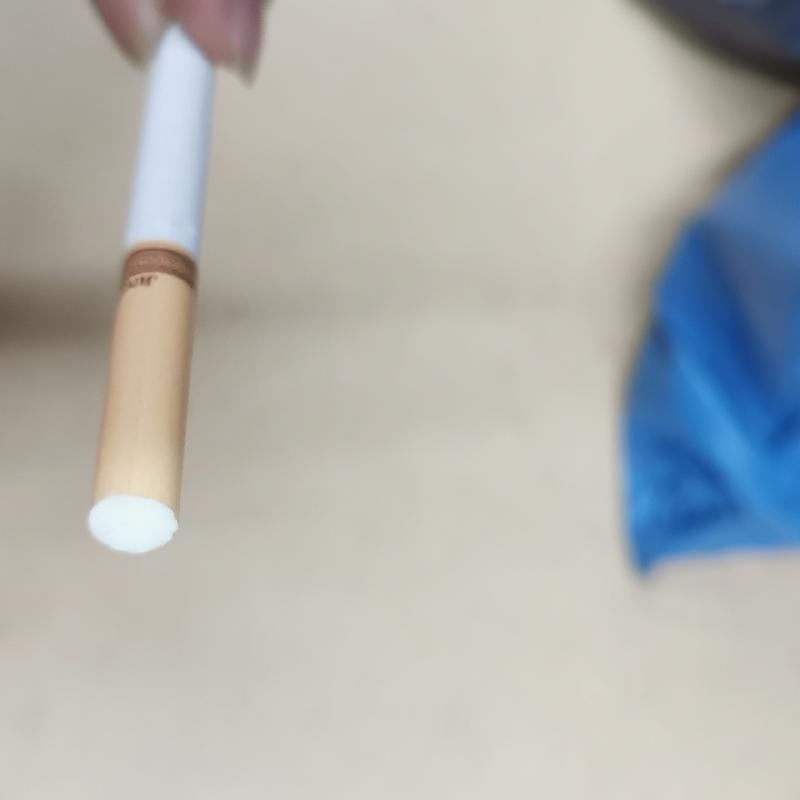cigarette: (80, 32, 214, 549)
